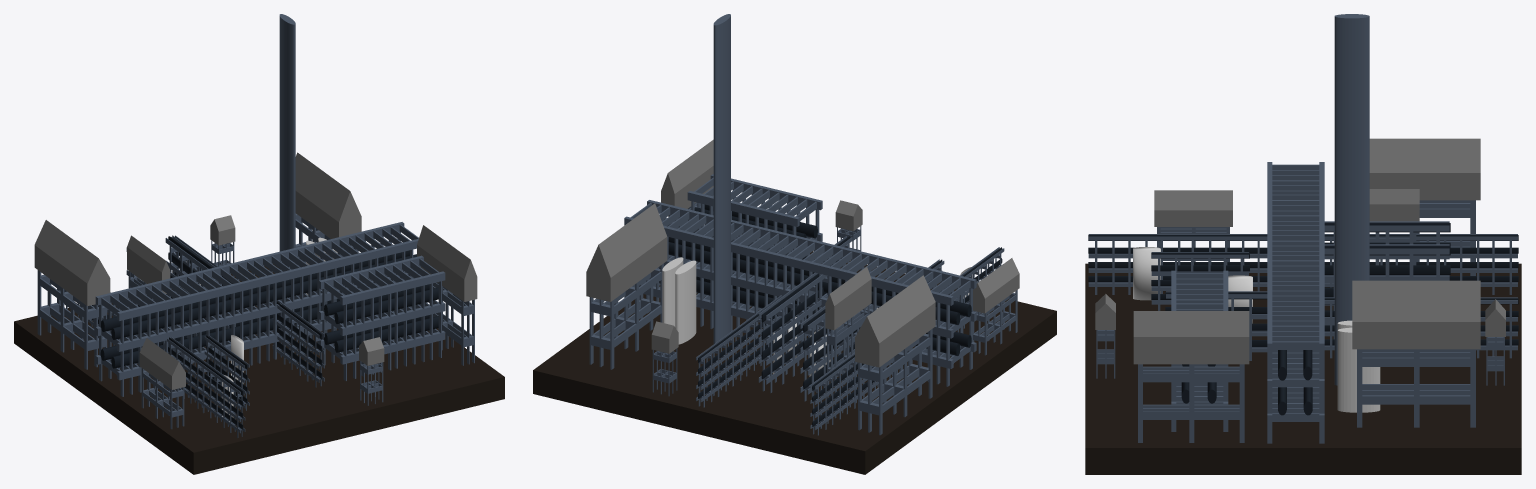
File: LNG Train 1_long_cube.fbx
The picture shows the model from 3 angles, left to right: view 1: azimuth 30°, elevation 25°; view 2: azimuth 150°, elevation 25°; view 3: azimuth 270°, elevation 25°; orthographic projection. The views are drawn at different scales.
Parts seen in each view (by area): view 1: LNGTrain_l_cube; view 2: LNGTrain_l_cube; view 3: LNGTrain_l_cube.
Part boxes in pixels (x1,y1,x2,y2): LNGTrain_l_cube: [14, 14, 504, 474]; LNGTrain_l_cube: [533, 14, 1056, 474]; LNGTrain_l_cube: [1085, 14, 1521, 474].
Bounding box in the file's own units: 100 × 100 × 100.
